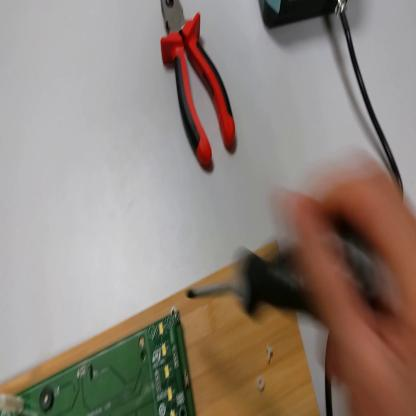hand: (276, 150, 416, 416)
low voltage board: (1, 308, 198, 416)
pliers: (155, 3, 237, 174)
screwdriver-: (183, 200, 381, 318)
welder station: (259, 1, 344, 32)
working area: (1, 267, 320, 416)
